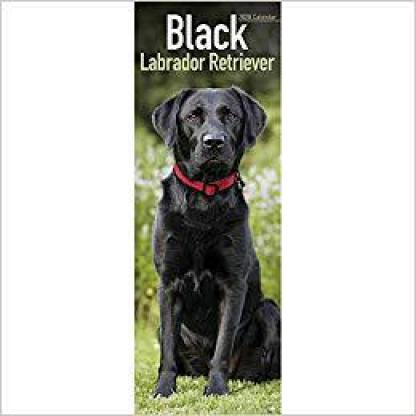dog: (147, 90, 299, 397)
